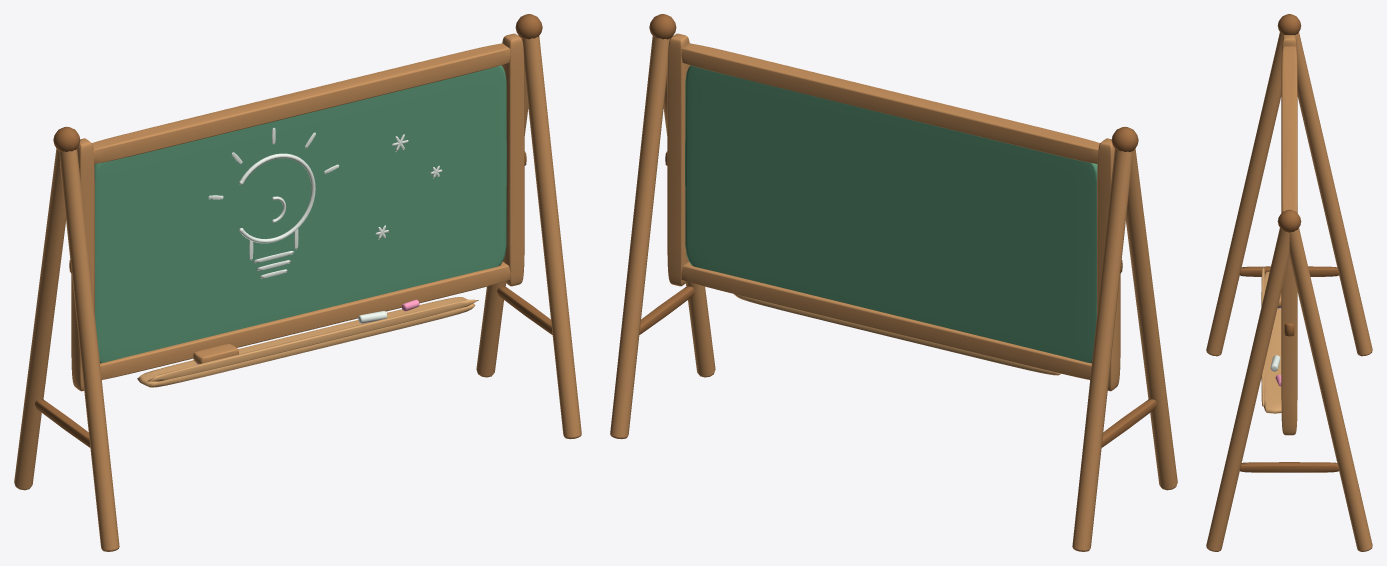
The model's file is blackboard.glb.
3 views of the same model, side by side, from view 1: azimuth 30°, elevation 25°; view 2: azimuth 150°, elevation 25°; view 3: azimuth 270°, elevation 25° (orthographic). The views are drawn at different scales.
Parts seen in each view (by area): view 1: blackboard; view 2: blackboard; view 3: blackboard.
Part boxes in pixels (x1,y1,x2,y2): blackboard: (14,14,581,551); blackboard: (610,14,1177,551); blackboard: (1206,14,1372,551).
Bounding box in the file's own units: 2.69 × 2.07 × 0.9176.
1 material, 1 textured.
